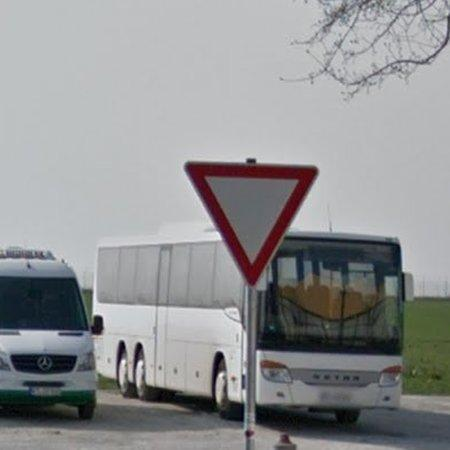buses: (93, 224, 245, 417), (257, 232, 405, 423)
